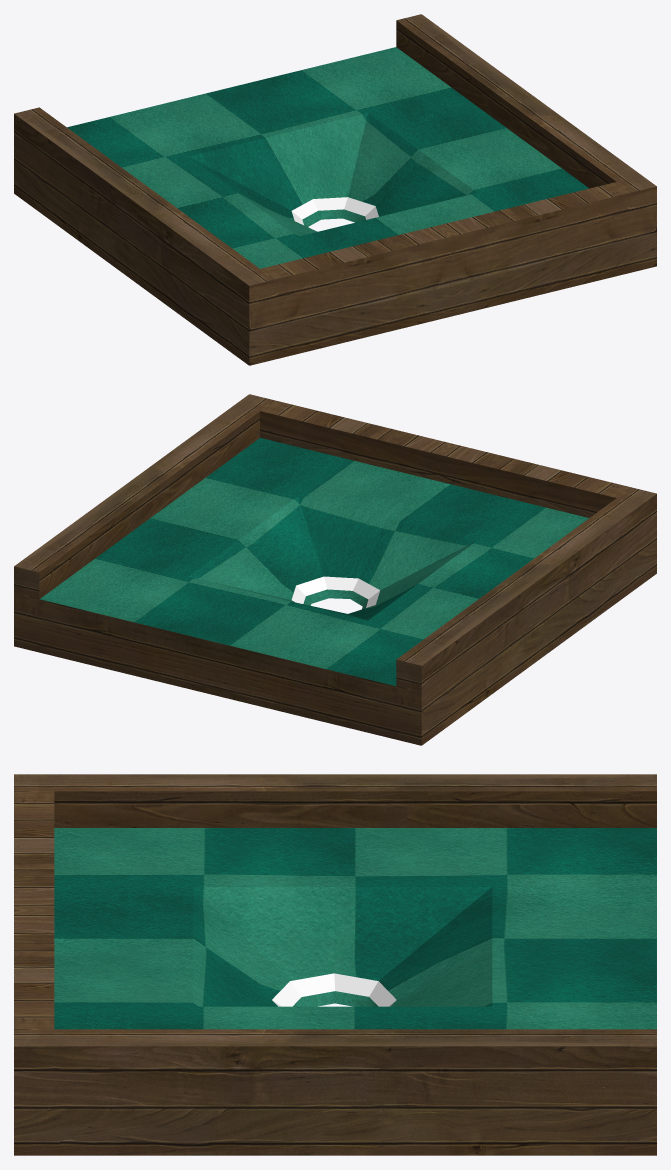
The model's file is End_depth.gltf.
The picture shows the model from 3 angles, top to bottom: view 1: azimuth 30°, elevation 25°; view 2: azimuth 150°, elevation 25°; view 3: azimuth 270°, elevation 25°; orthographic projection. The views are drawn at different scales.
Visible parts, largest first — view 1: End_depth_glb; view 2: End_depth_glb; view 3: End_depth_glb.
Boxes of the visible parts, bbox=[...] form: End_depth_glb: bbox=[14, 14, 656, 365]; End_depth_glb: bbox=[14, 394, 656, 745]; End_depth_glb: bbox=[14, 774, 656, 1155].
Size of what is drawn, in the model's own units: 4 by 0.75 by 4.
3 materials, 2 textured.
